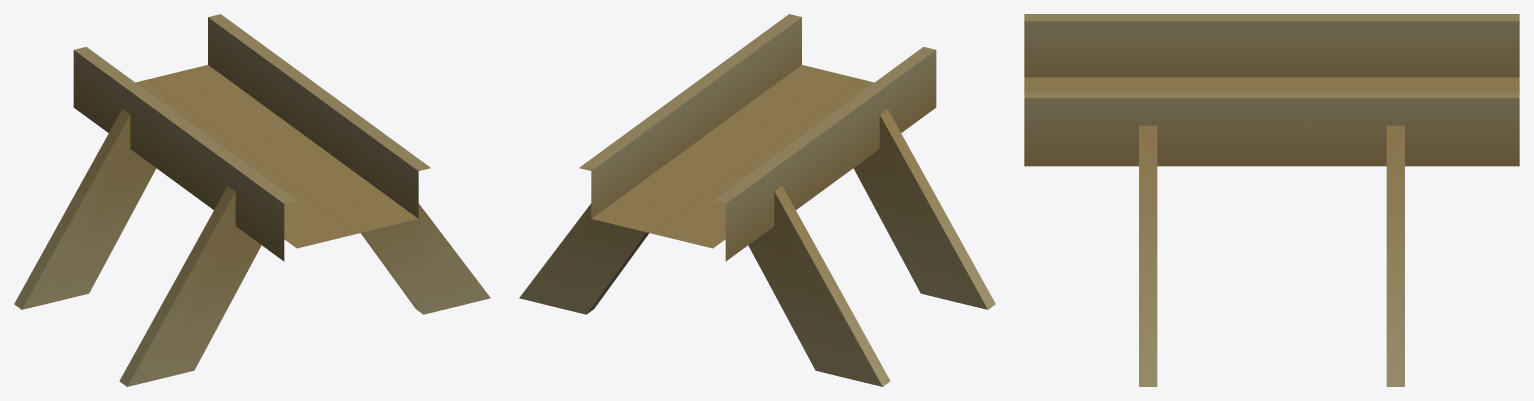
Rendered from aquaduct2.glb.
3 views of the same model, side by side, from view 1: azimuth 30°, elevation 25°; view 2: azimuth 150°, elevation 25°; view 3: azimuth 270°, elevation 25° (orthographic). The views are drawn at different scales.
Visible parts, largest first — view 1: Aquaduct2; view 2: Aquaduct2; view 3: Aquaduct2.
Part boxes in pixels (bbox=[...]): Aquaduct2: bbox=[14, 14, 490, 386]; Aquaduct2: bbox=[519, 14, 995, 386]; Aquaduct2: bbox=[1024, 14, 1519, 386].
Bounding box in the file's own units: 2 × 1.01 × 2.
Materials: 1 (1 with a texture image).
